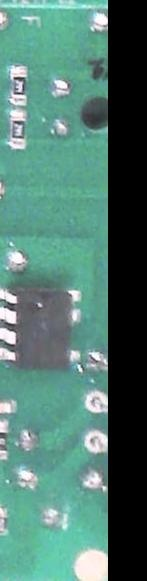chip-capacitor: (0, 397, 18, 415)
chip-resistor: (7, 108, 29, 149), (7, 64, 29, 105)
ic: (0, 283, 83, 370)
